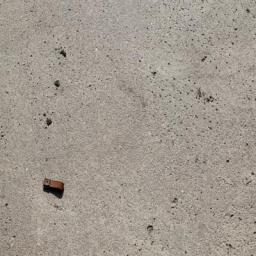FOD: (43, 177, 66, 203)
